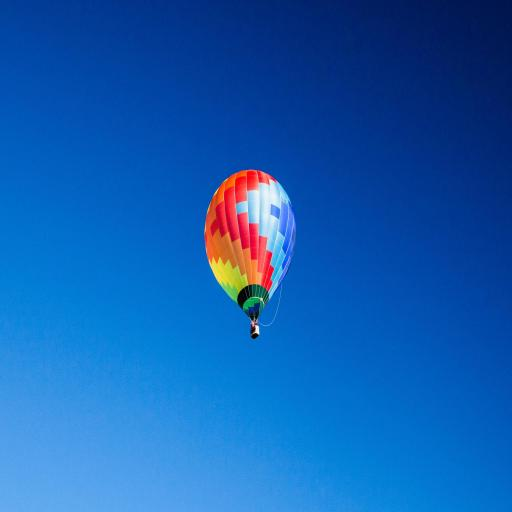hot air ballon: (204, 169, 295, 340)
